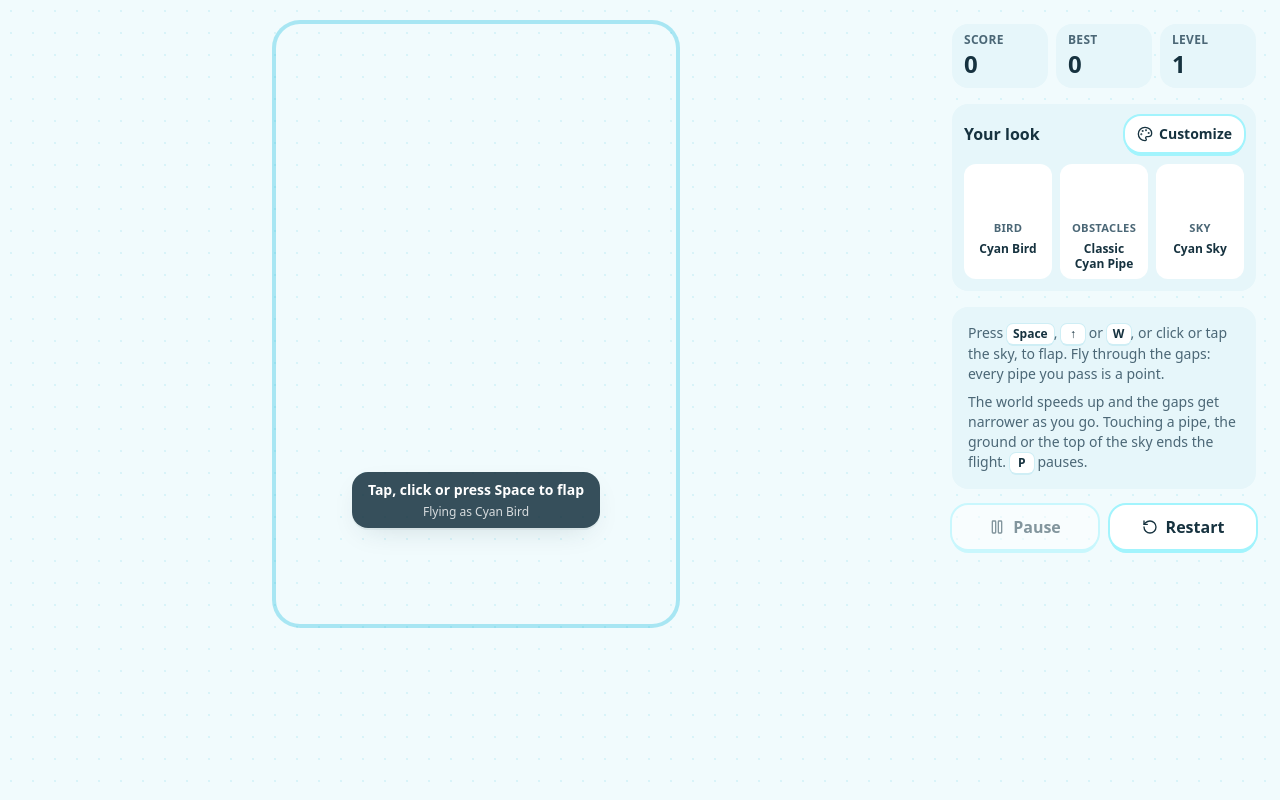
Test: Flappy Bird skins › asks a guest to log in to collect skins
The width and height of the screenshot is (1280, 800).
Click the button "Customize".
click(1184, 134)  # box x1=1125 y1=116 x2=1244 y2=152
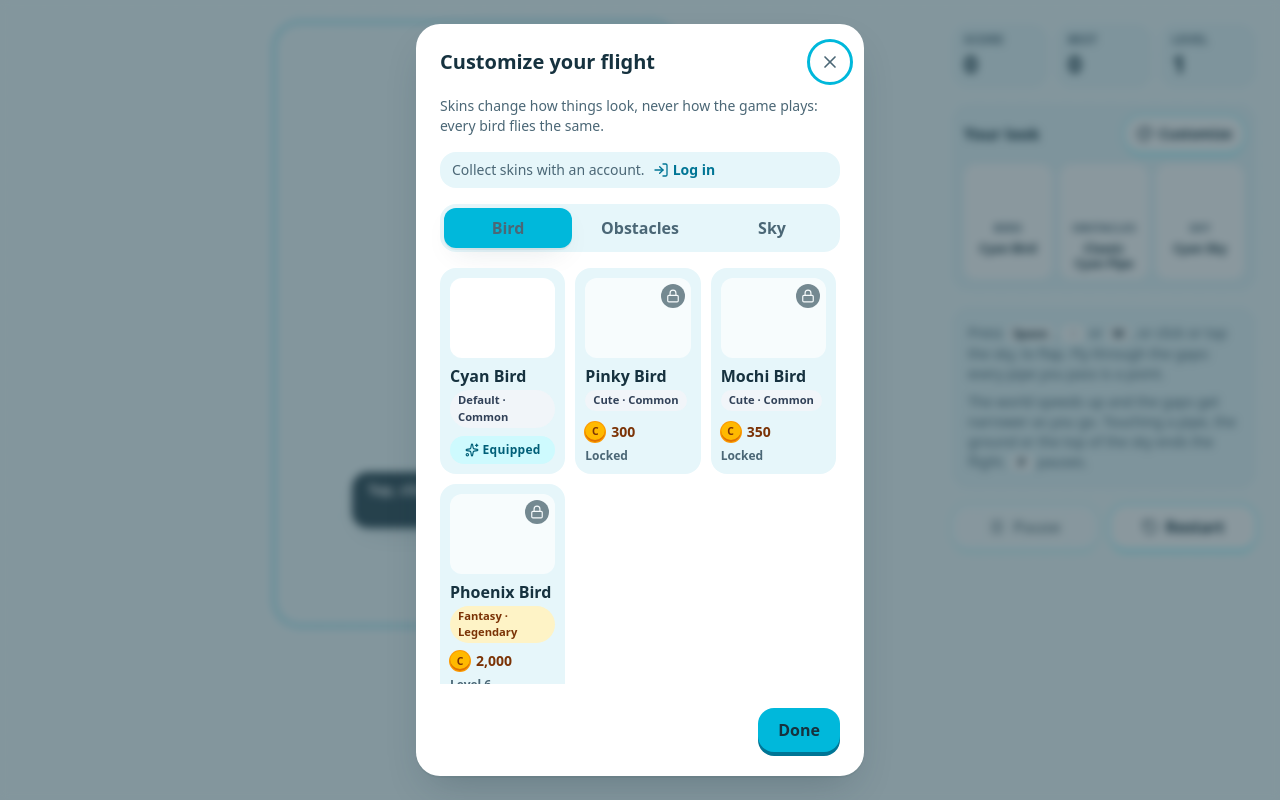
Now the text "Locked" below "300" is shown, box x1=585 y1=447 x2=628 y2=464
